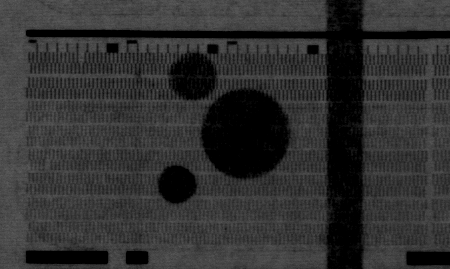Broken hole: (41, 159, 53, 172), (76, 52, 87, 64)
